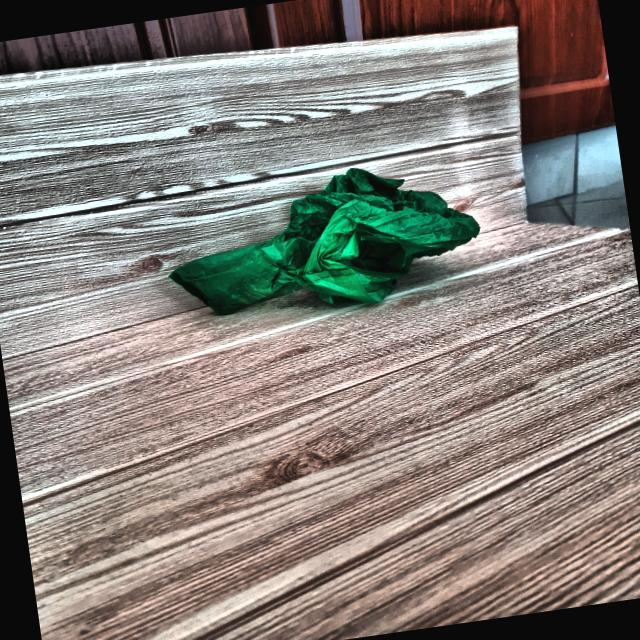plastic bag: (149, 156, 488, 340)
